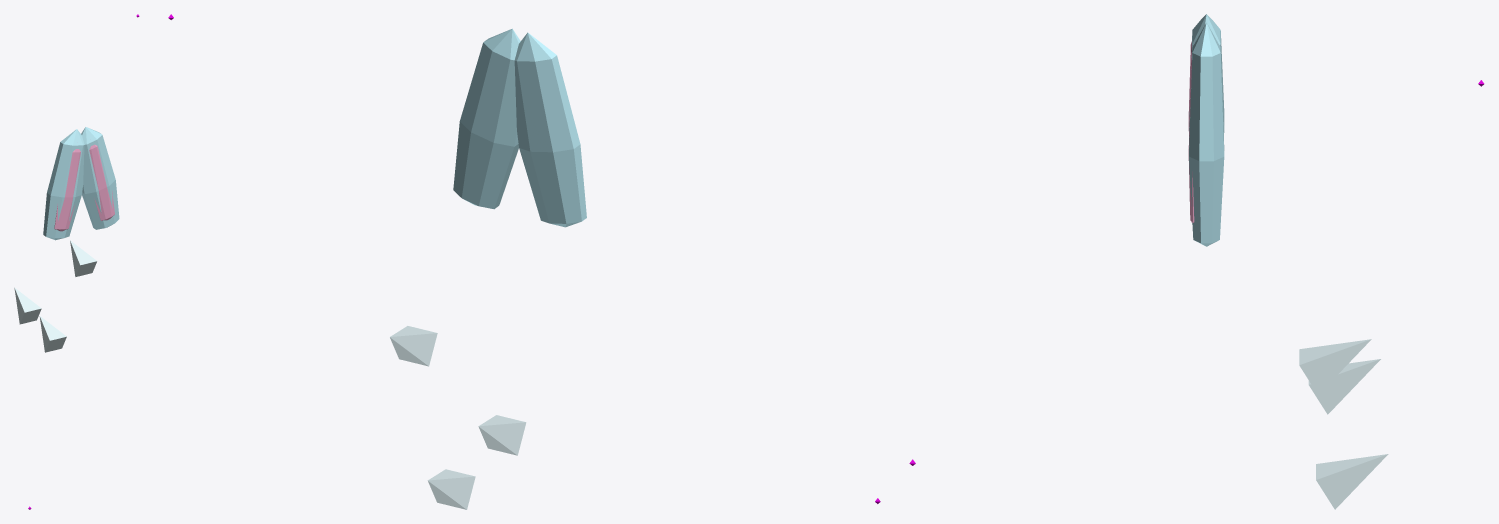
The model's file is acc_bunny_ears.fbx.
3 views of the same model, side by side, from view 1: azimuth 30°, elevation 25°; view 2: azimuth 150°, elevation 25°; view 3: azimuth 270°, elevation 25° (orthographic). The views are drawn at different scales.
Visible parts, largest first — view 1: Ears, Inner, Crystals; view 2: Ears, Crystals; view 3: Ears, Crystals.
Part boxes in pixels (x1=…): Ears: x1=43, y1=127, x2=119, y2=240; Inner: x1=54, y1=144, x2=114, y2=231; Crystals: x1=14, y1=240, x2=97, y2=352; Ears: x1=453, y1=28, x2=586, y2=227; Crystals: x1=390, y1=326, x2=526, y2=509; Ears: x1=1189, y1=14, x2=1224, y2=246; Crystals: x1=1299, y1=339, x2=1388, y2=509.
Bounding box in the file's own units: 2.99 × 3.6 × 2.99.
